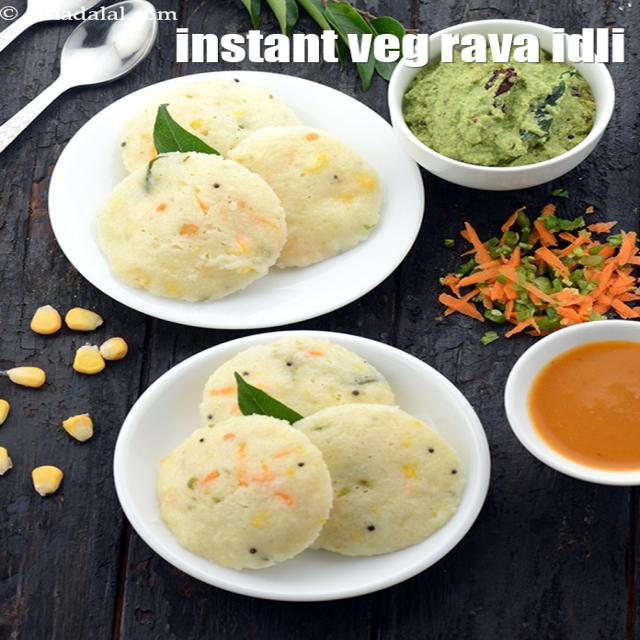rave idli: (78, 147, 304, 312), (150, 412, 343, 579), (306, 396, 488, 562), (237, 130, 381, 268), (202, 340, 408, 428)
